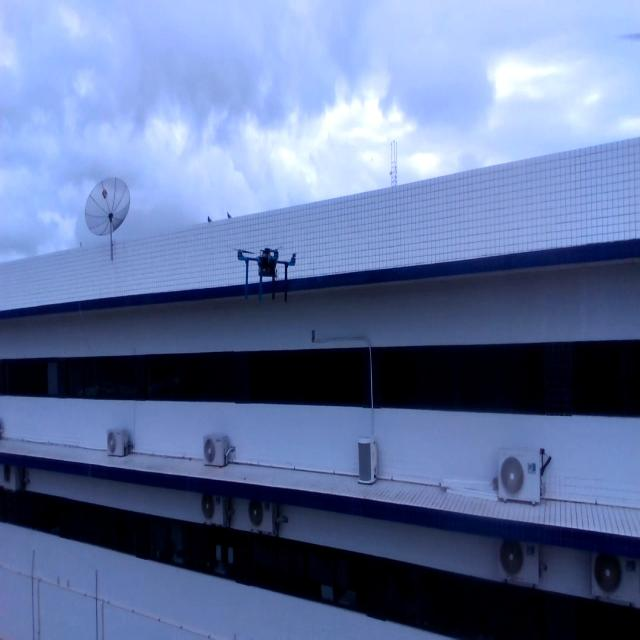-uav-: (217, 230, 306, 320)
